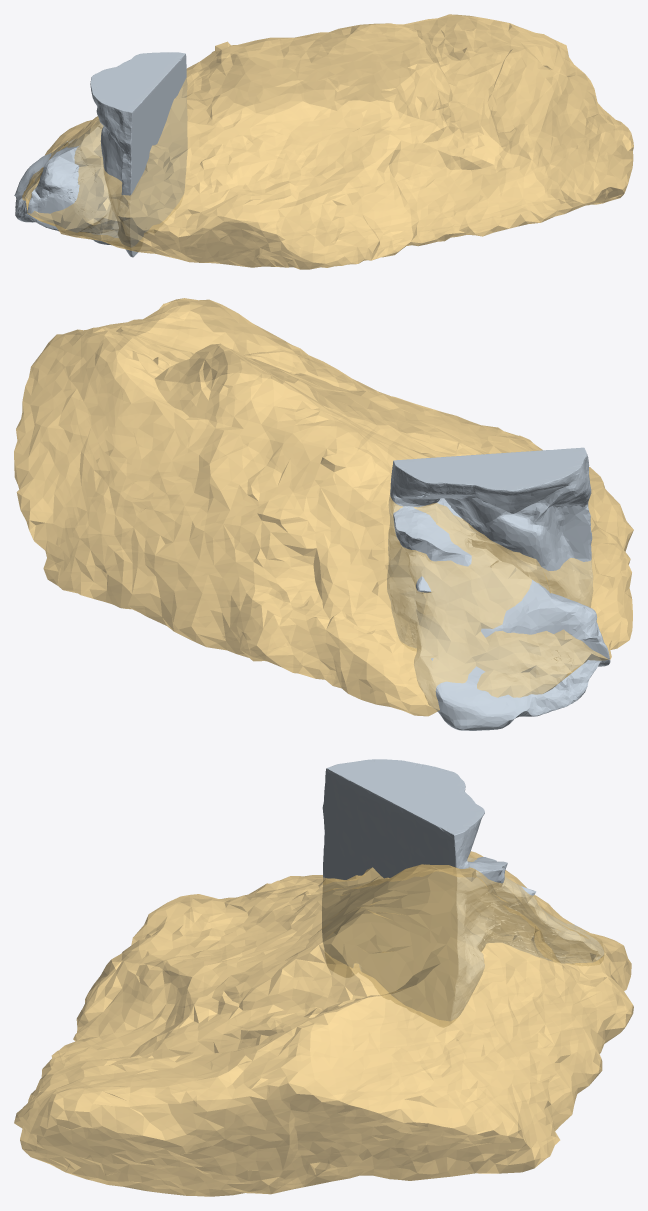
The picture shows the model from 3 angles, top to bottom: view 1: azimuth 30°, elevation 25°; view 2: azimuth 150°, elevation 25°; view 3: azimuth 270°, elevation 25°; orthographic projection. The views are drawn at different scales.
Visible parts, largest first — view 1: truth, imagination; view 2: truth, imagination; view 3: truth, imagination.
Part boxes in pixels (x1,y1,x2,y2): truth: (22,14,633,269); imagination: (14,52,187,257); truth: (14,298,633,716); imagination: (387,447,610,730); truth: (14,851,633,1196); imagination: (322,759,604,1027).
Bounding box in the file's own units: 1.29 × 0.4165 × 1.04.
